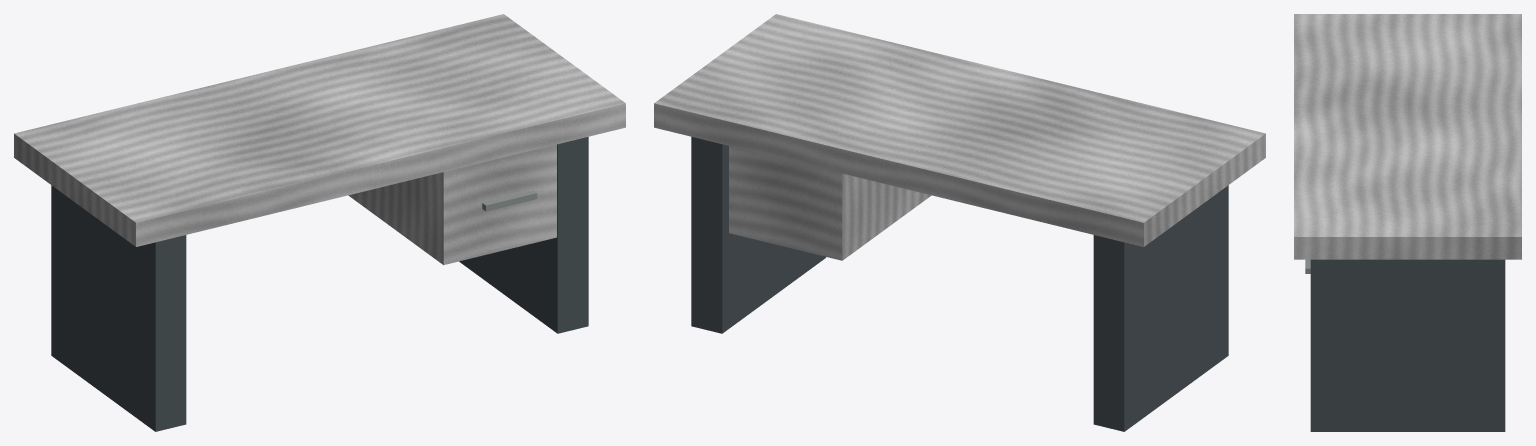
Rendered from desk.glb.
3 views of the same model, side by side, from view 1: azimuth 30°, elevation 25°; view 2: azimuth 150°, elevation 25°; view 3: azimuth 270°, elevation 25° (orthographic). The views are drawn at different scales.
Visible parts, largest first — view 1: desk_WoodLight, desk_Steel, desk_Wood; view 2: desk_WoodLight, desk_Steel, desk_Wood; view 3: desk_WoodLight, desk_Steel.
Boxes of the visible parts, x1=… form: desk_WoodLight: x1=14, y1=14, x2=625, y2=246; desk_Steel: x1=51, y1=137, x2=588, y2=431; desk_Wood: x1=348, y1=144, x2=556, y2=264; desk_WoodLight: x1=654, y1=14, x2=1265, y2=246; desk_Steel: x1=691, y1=137, x2=1228, y2=431; desk_Wood: x1=729, y1=146, x2=931, y2=260; desk_WoodLight: x1=1294, y1=14, x2=1521, y2=259; desk_Steel: x1=1310, y1=259, x2=1505, y2=431.
Size of the model in its own units: 1.9 by 0.825 by 0.82.
Materials: 4 (2 with a texture image).
